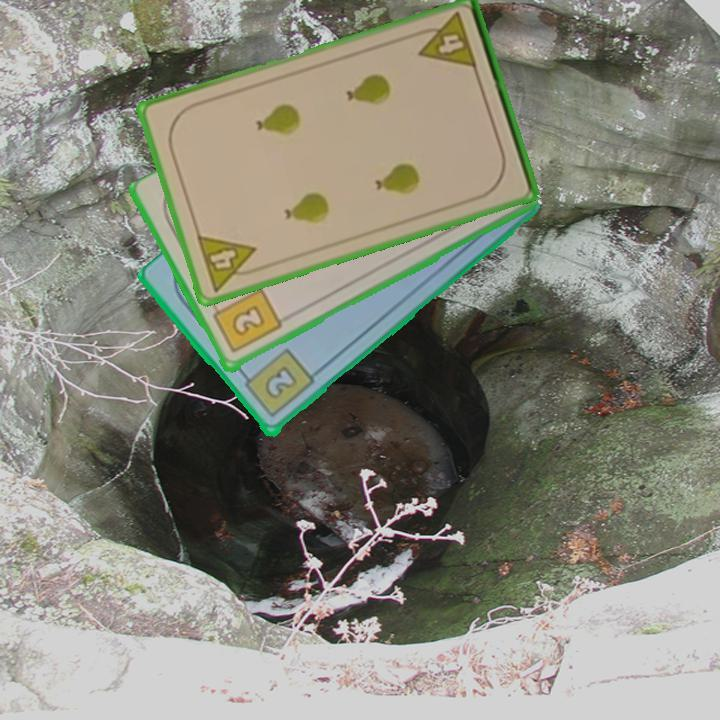2b: (237, 346, 317, 422), (209, 286, 285, 356)
4p: (193, 231, 265, 295), (410, 9, 480, 72)
